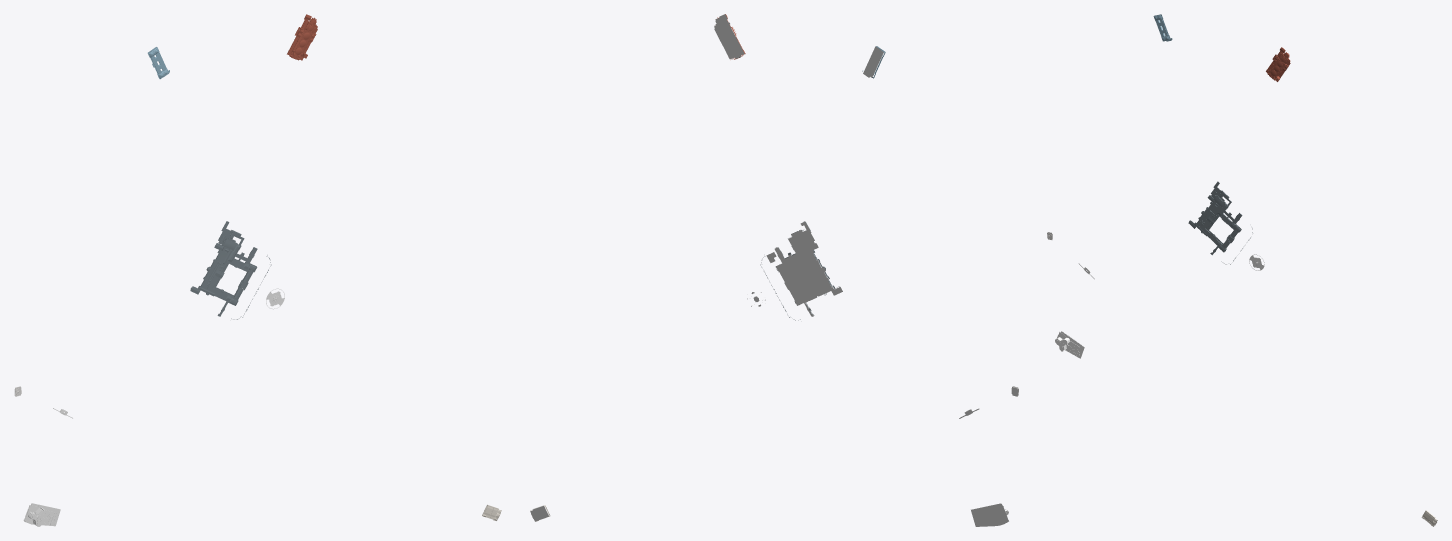
3 views of the same model, side by side, from view 1: azimuth 30°, elevation 25°; view 2: azimuth 150°, elevation 25°; view 3: azimuth 330°, elevation 25° (orthographic). The views are drawn at different scales.
Size of the model in its own units: 7213 by 7884 by 101.
